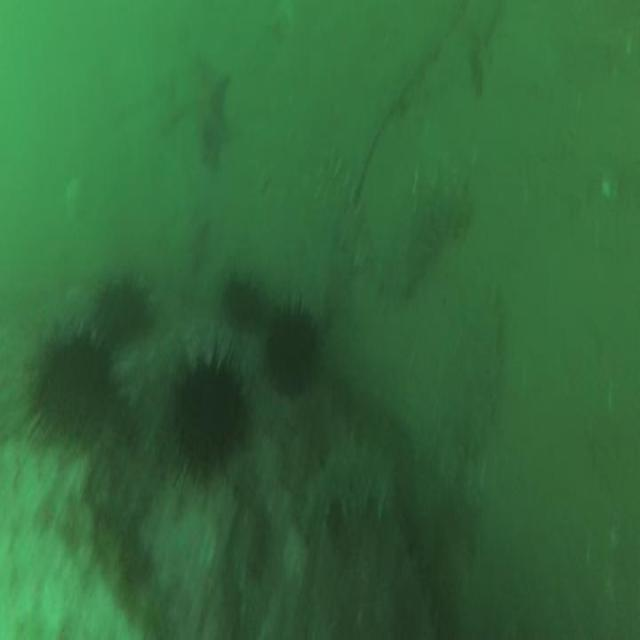echinus: (22, 315, 132, 455), (162, 329, 256, 488), (261, 292, 320, 408), (87, 270, 157, 349), (217, 262, 265, 332)
holothurian: (388, 177, 478, 294), (300, 436, 396, 539), (307, 144, 376, 283), (461, 275, 507, 446)
starfish: (180, 52, 237, 169)
